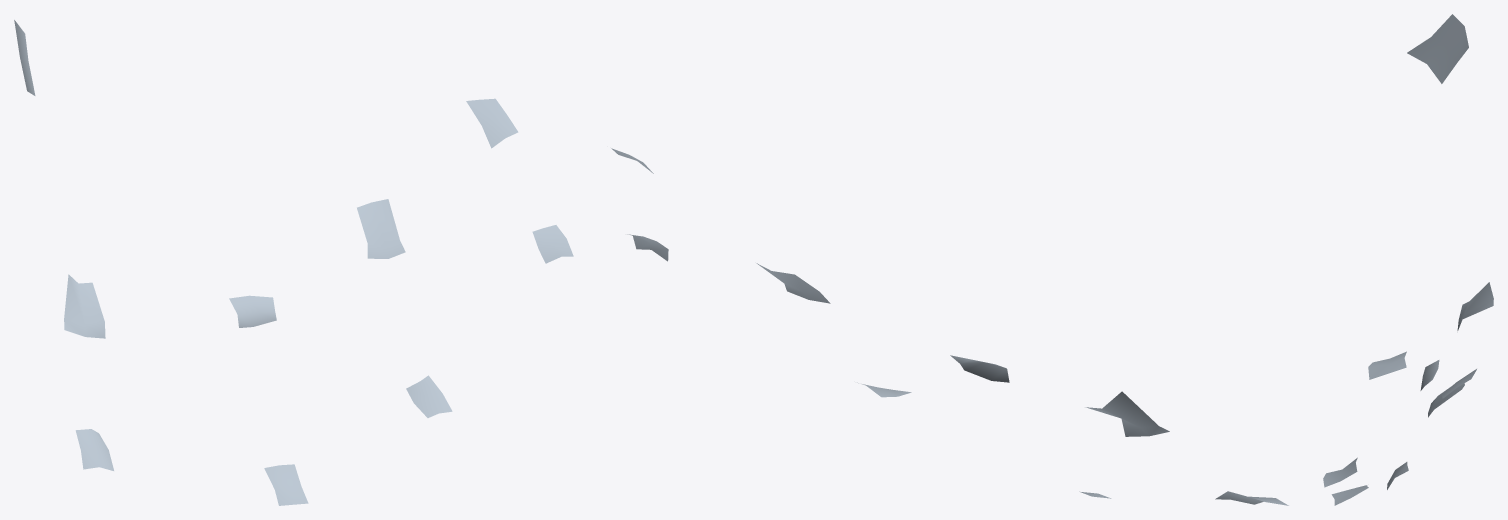
Rendered from palmar-interphalangeal-ligaments-r.glb.
The picture shows the model from 3 angles, left to right: view 1: azimuth 30°, elevation 25°; view 2: azimuth 150°, elevation 25°; view 3: azimuth 270°, elevation 25°; orthographic projection. The views are drawn at different scales.
Visible parts, largest first — view 1: Palmar interphalangeal ligaments.r; view 2: Palmar interphalangeal ligaments.r; view 3: Palmar interphalangeal ligaments.r.
Boxes of the visible parts, x1,y1,x2,y2 form: Palmar interphalangeal ligaments.r: [14, 20, 573, 505]; Palmar interphalangeal ligaments.r: [611, 148, 1288, 505]; Palmar interphalangeal ligaments.r: [1323, 14, 1493, 505].
Size of the model in its own units: 0.0964 by 0.0849 by 0.0337.
